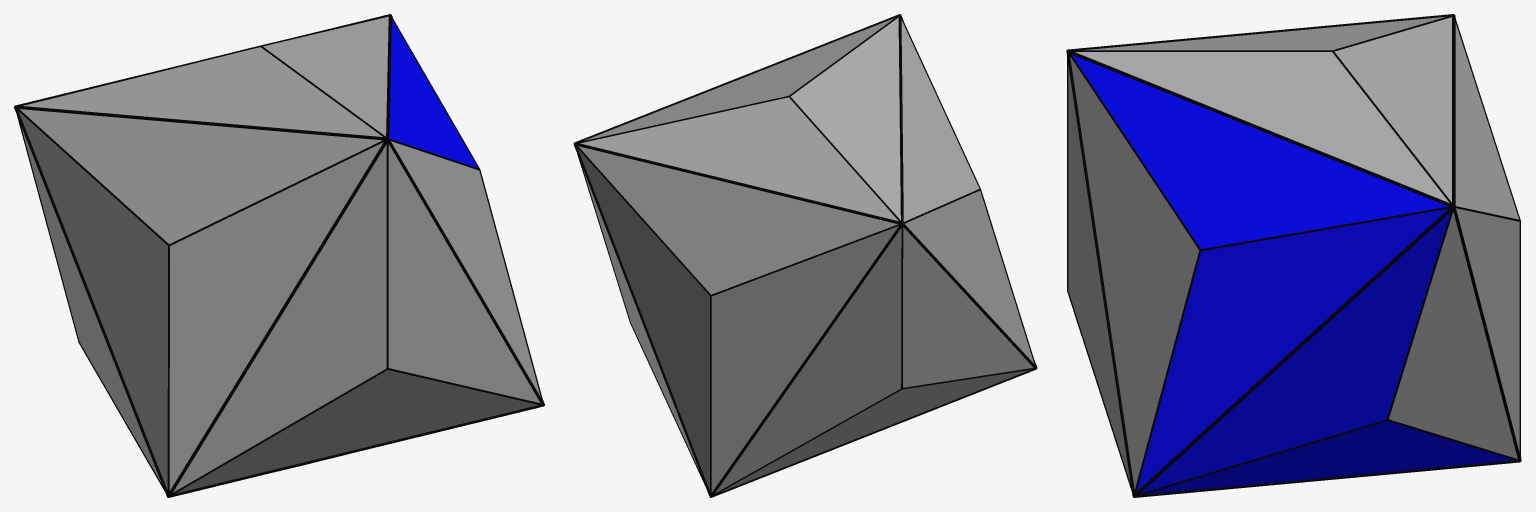
File: TriakisOctahedron4.glb
The picture shows the model from 3 angles, left to right: view 1: azimuth 30°, elevation 25°; view 2: azimuth 150°, elevation 25°; view 3: azimuth 270°, elevation 25°; orthographic projection. The views are drawn at different scales.
Bounding box in the file's own units: 3.44 × 3.44 × 3.44.
